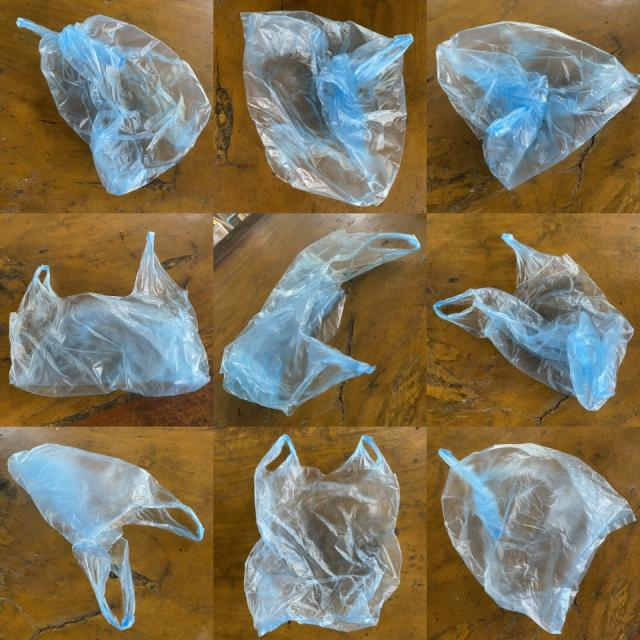Single-layer Plastic: (220, 229, 420, 416), (439, 444, 635, 634), (8, 444, 204, 629), (434, 234, 634, 410), (16, 15, 211, 194), (436, 21, 640, 189), (242, 11, 412, 206), (10, 232, 209, 397), (244, 435, 401, 635)
